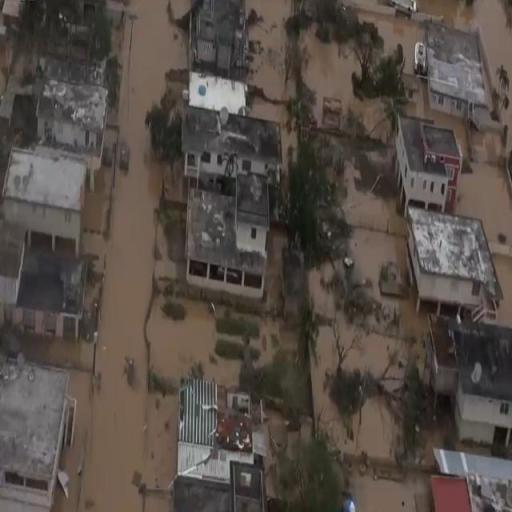flood: (80, 0, 188, 512), (406, 82, 511, 307), (312, 327, 396, 458), (305, 33, 392, 142), (350, 228, 425, 354), (148, 296, 242, 386), (419, 0, 512, 89), (51, 370, 90, 512), (309, 263, 365, 346), (246, 0, 292, 100), (342, 162, 404, 236), (358, 11, 423, 74), (248, 97, 297, 168), (144, 392, 179, 488), (352, 474, 432, 512), (243, 314, 296, 368), (21, 334, 93, 372), (347, 333, 395, 378), (82, 167, 112, 230), (82, 232, 104, 272), (0, 35, 12, 96), (146, 493, 173, 512), (171, 0, 191, 16), (104, 128, 118, 144), (218, 307, 224, 316)
house: (0, 128, 98, 345), (180, 93, 283, 296), (184, 368, 273, 512), (0, 350, 76, 512), (407, 204, 495, 318), (456, 310, 512, 451), (42, 55, 110, 159), (422, 18, 489, 123), (398, 112, 466, 214), (193, 0, 247, 81), (429, 470, 477, 512), (389, 0, 420, 20)
